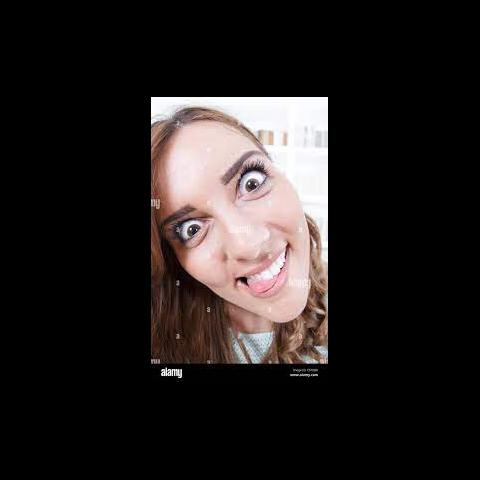opened: (163, 158, 289, 252)
